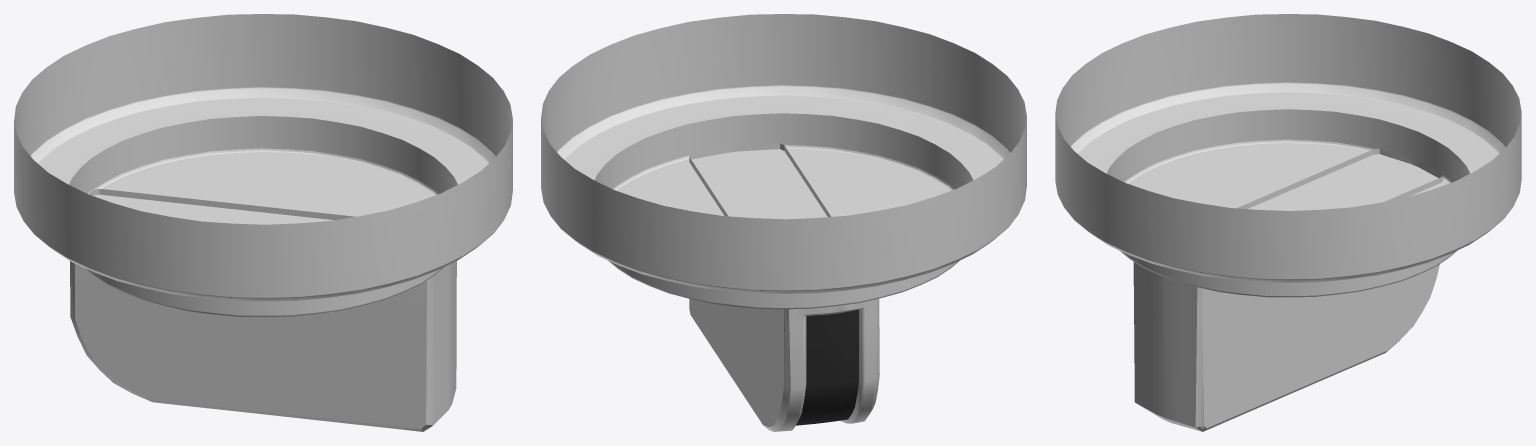
File: knob001.obj
The picture shows the model from 3 angles, left to right: view 1: azimuth 30°, elevation 25°; view 2: azimuth 150°, elevation 25°; view 3: azimuth 270°, elevation 25°; orthographic projection. The views are drawn at different scales.
Parts seen in each view (by area): view 1: Microwave045_Knob001; view 2: Microwave045_Knob001; view 3: Microwave045_Knob001.
Part boxes in pixels (x1,y1,x2,y2): Microwave045_Knob001: [14, 14, 512, 431]; Microwave045_Knob001: [541, 14, 1026, 431]; Microwave045_Knob001: [1055, 14, 1521, 431].
Size of the model in its own units: 0.0432 by 0.0263 by 0.0432.
1 material, 1 textured.
